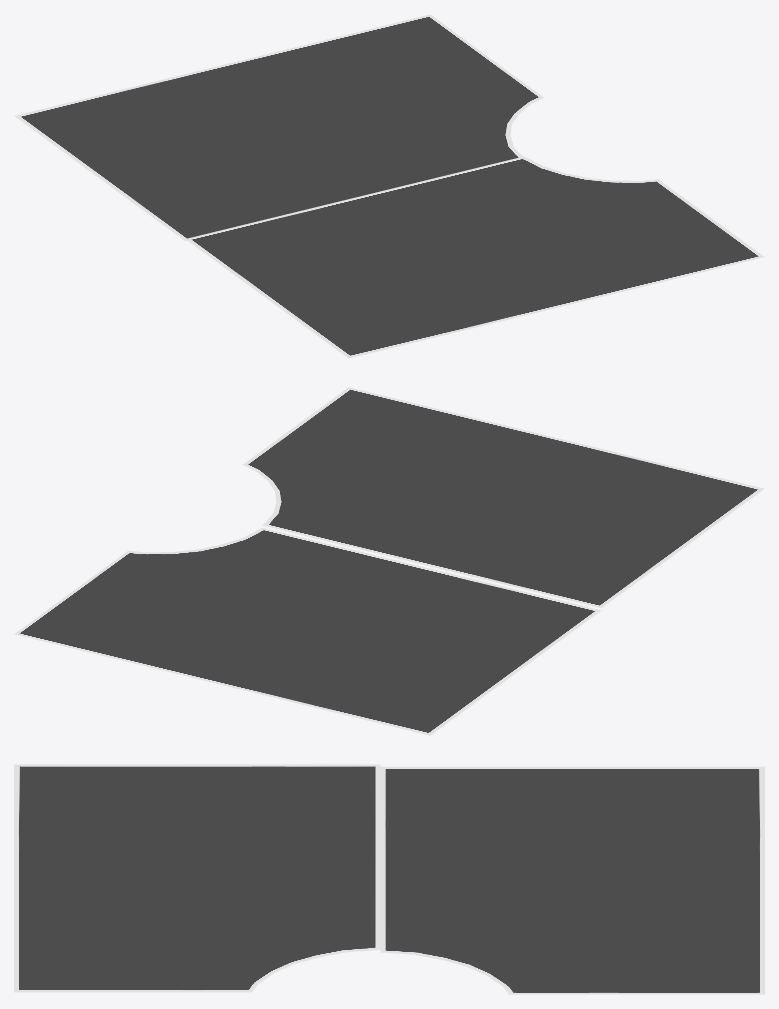
File: QuarterHell.fbx
3 renders of one model, top to bottom at view 1: azimuth 30°, elevation 25°; view 2: azimuth 150°, elevation 25°; view 3: azimuth 270°, elevation 25°, orthographic. The views are drawn at different scales.
Parts seen in each view (by area): view 1: LeftlQuarterHell, LeftlupQuarterHell; view 2: LeftlQuarterHell, LeftlupQuarterHell; view 3: LeftlQuarterHell, LeftlupQuarterHell.
Part boxes in pixels (left/top/right/bottom): LeftlQuarterHell: left=14, top=14, right=543, bottom=241; LeftlupQuarterHell: left=185, top=156, right=764, bottom=358; LeftlQuarterHell: left=14, top=527, right=601, bottom=735; LeftlupQuarterHell: left=242, top=387, right=764, bottom=607; LeftlQuarterHell: left=380, top=766, right=764, bottom=994; LeftlupQuarterHell: left=14, top=764, right=380, bottom=992.
Size of the model in its own units: 985 by 5 by 1372.
